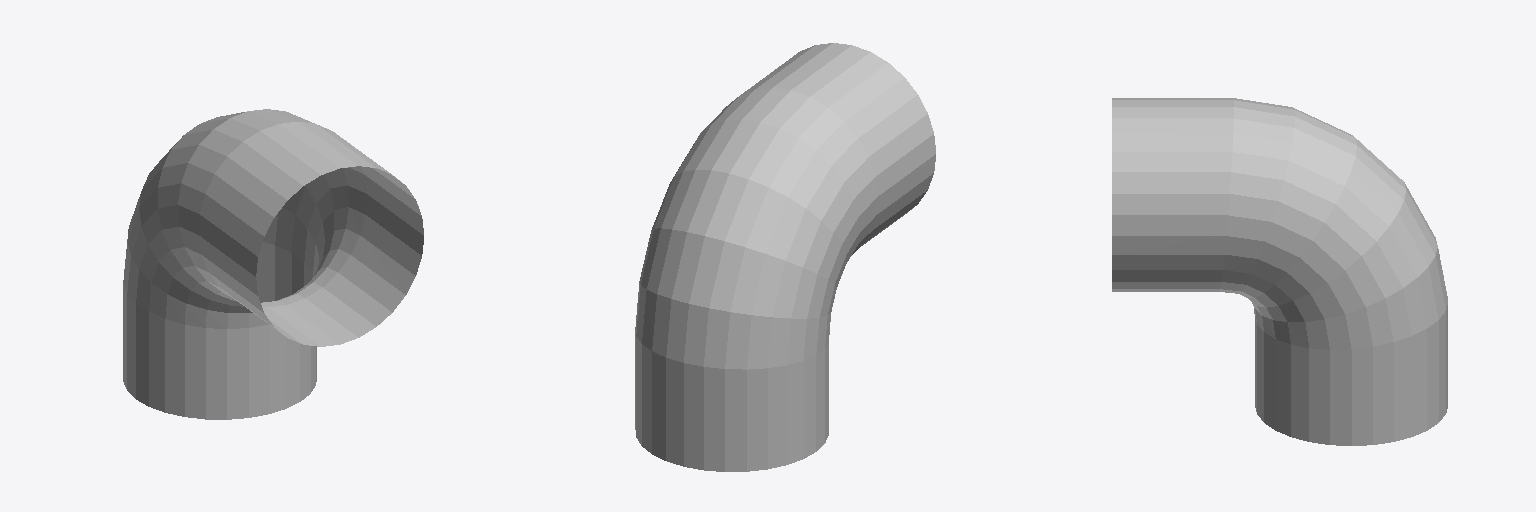
Rendered from HALF_TUBE.obj.
The picture shows the model from 3 angles: view 1: azimuth 30°, elevation 25°; view 2: azimuth 150°, elevation 25°; view 3: azimuth 270°, elevation 25°; orthographic projection.
Parts seen in each view (by area): view 1: HALF_TUBE; view 2: HALF_TUBE; view 3: HALF_TUBE.
Part boxes in pixels (x1,y1,x2,y2): HALF_TUBE: (123,109,423,419); HALF_TUBE: (635,43,935,471); HALF_TUBE: (1112,98,1447,445).
Bounding box in the file's own units: 0.5 × 0.8466 × 0.8665.